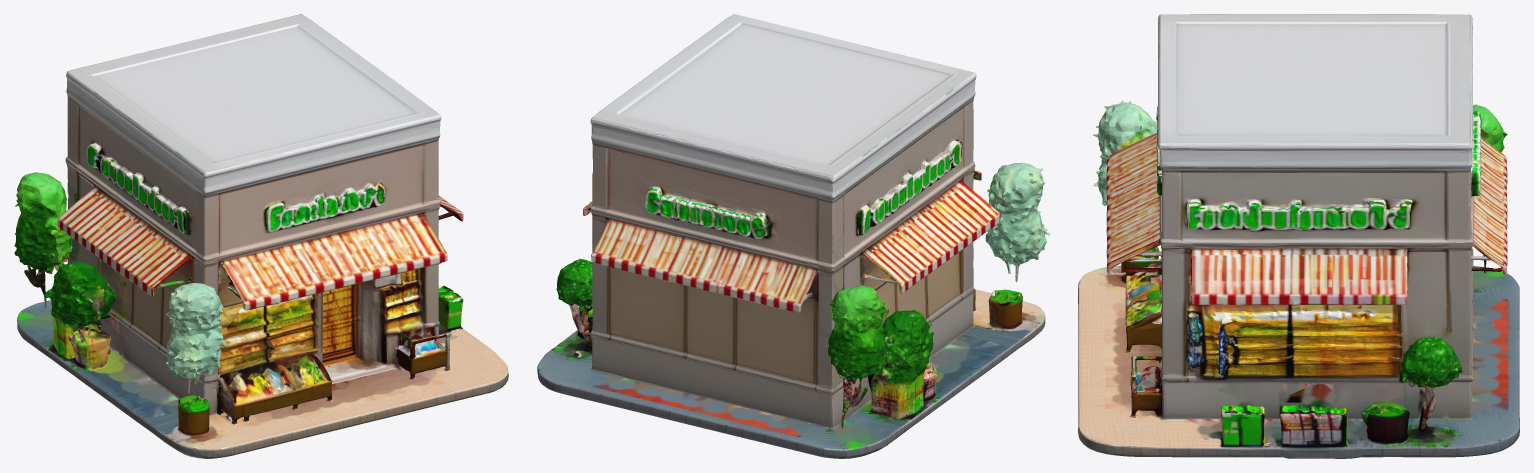
Rendered from shop_hunyuan3d-2.0_delight.glb.
3 renders of one model, left to right at view 1: azimuth 30°, elevation 25°; view 2: azimuth 150°, elevation 25°; view 3: azimuth 270°, elevation 25°, orthographic. The views are drawn at different scales.
Parts seen in each view (by area): view 1: temp_mesh.ply; view 2: temp_mesh.ply; view 3: temp_mesh.ply.
Part boxes in pixels (x1=…): temp_mesh.ply: x1=14, y1=14, x2=508, y2=458; temp_mesh.ply: x1=537, y1=14, x2=1049, y2=458; temp_mesh.ply: x1=1078, y1=14, x2=1519, y2=458.
Bounding box in the file's own units: 1.99 × 1.44 × 1.99.
1 material, 1 textured.
